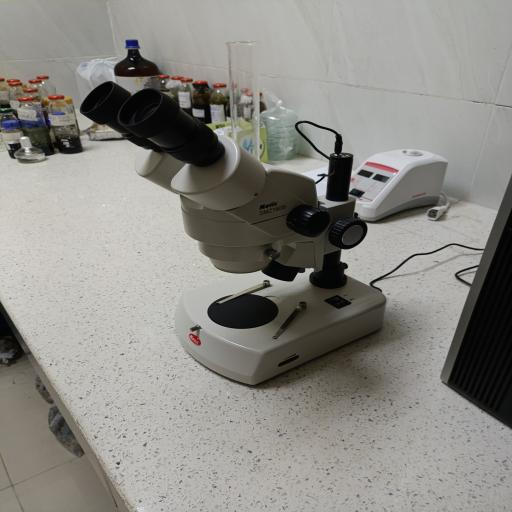Microscopio_estereo: (71, 66, 417, 394)
